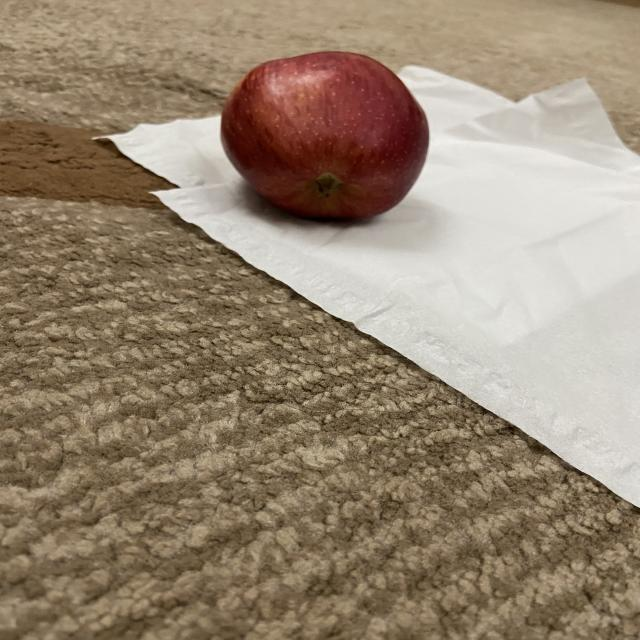apple: (219, 49, 432, 224)
